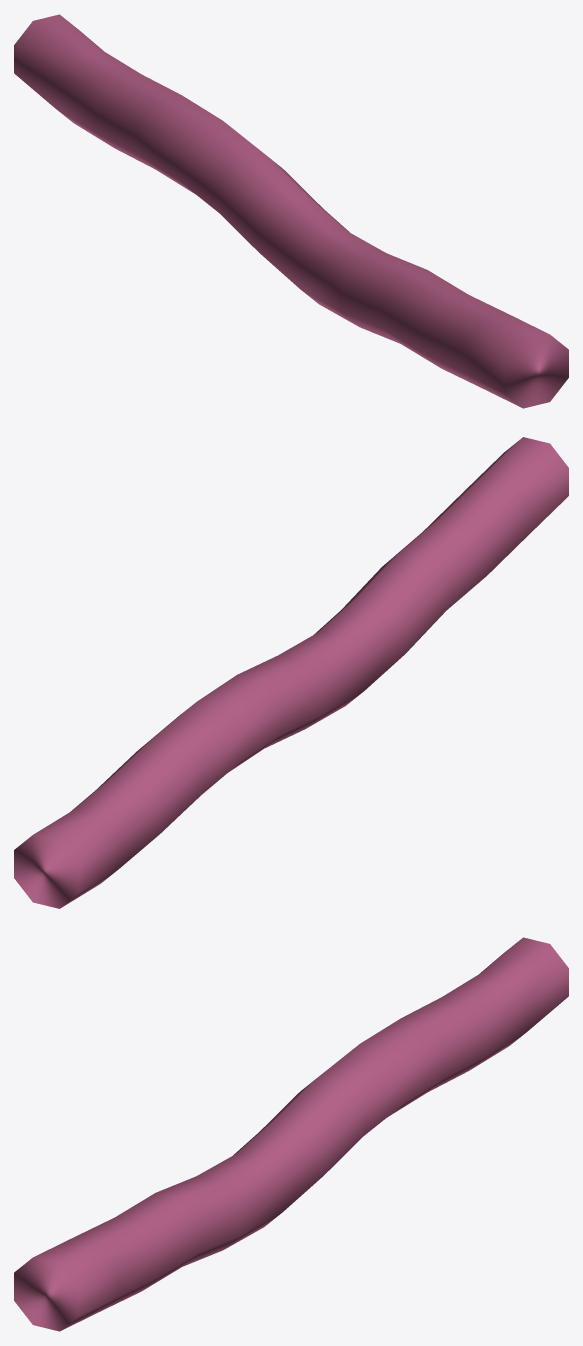
The model's file is cable rosa.fbx.
The picture shows the model from 3 angles, top to bottom: view 1: azimuth 30°, elevation 25°; view 2: azimuth 150°, elevation 25°; view 3: azimuth 330°, elevation 25°; orthographic projection.
Parts seen in each view (by area): view 1: Cylinder.004; view 2: Cylinder.004; view 3: Cylinder.004.
Part boxes in pixels (x1,y1,x2,y2): Cylinder.004: (14,14,568,408); Cylinder.004: (14,437,568,908); Cylinder.004: (14,937,568,1331).
Size of the model in its own units: 25.62 by 42.81 by 337.
